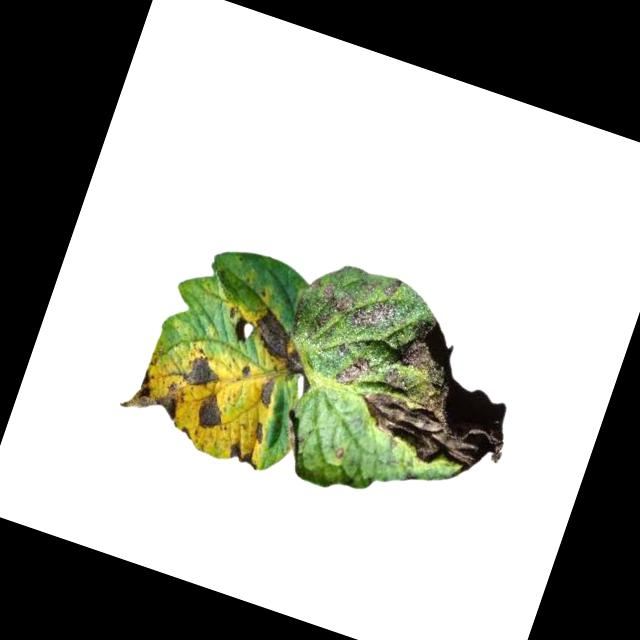Early_blight: (347, 306, 539, 486), (322, 260, 408, 337), (242, 306, 318, 380), (118, 366, 188, 428), (175, 350, 221, 394), (331, 350, 375, 394), (192, 390, 228, 435), (224, 440, 262, 472), (251, 375, 279, 411), (224, 316, 253, 348), (249, 421, 267, 446), (238, 362, 252, 377)
